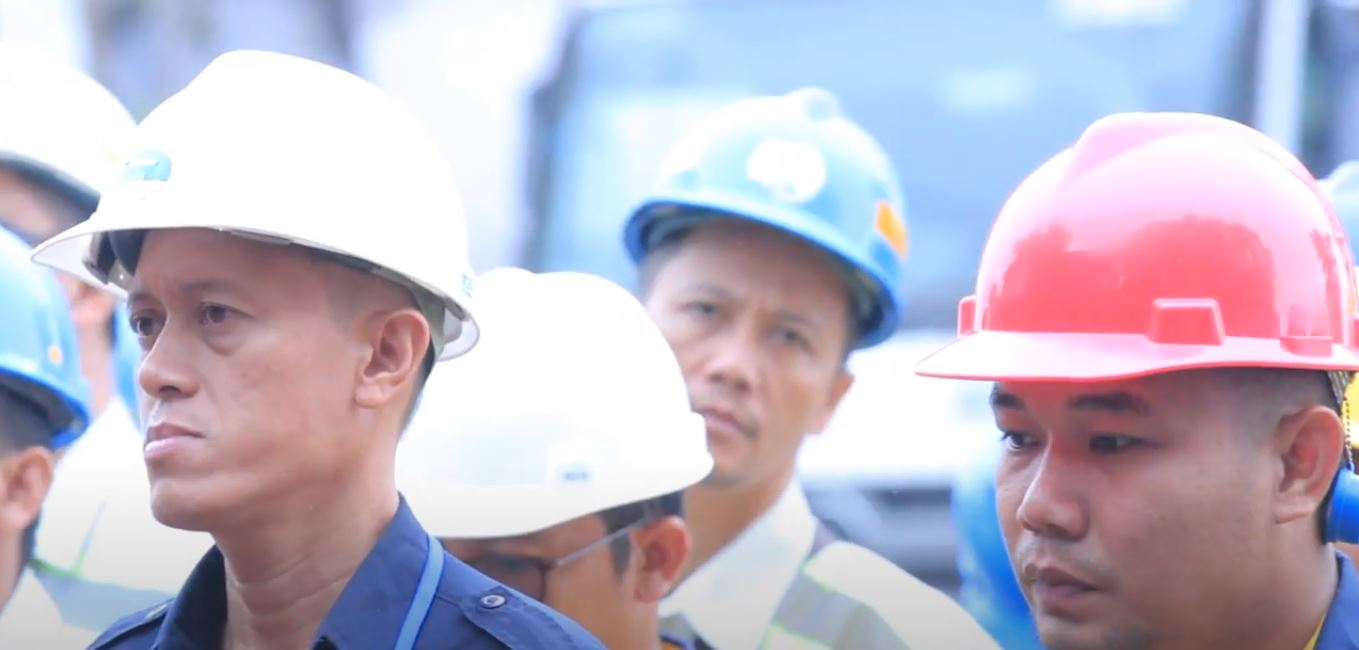Safety Helmet: (945, 73, 1359, 634), (47, 32, 471, 537), (598, 49, 947, 558)
